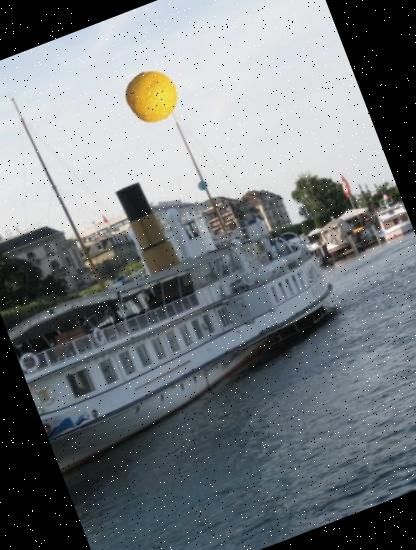Cantaloupe: (119, 62, 187, 130)
